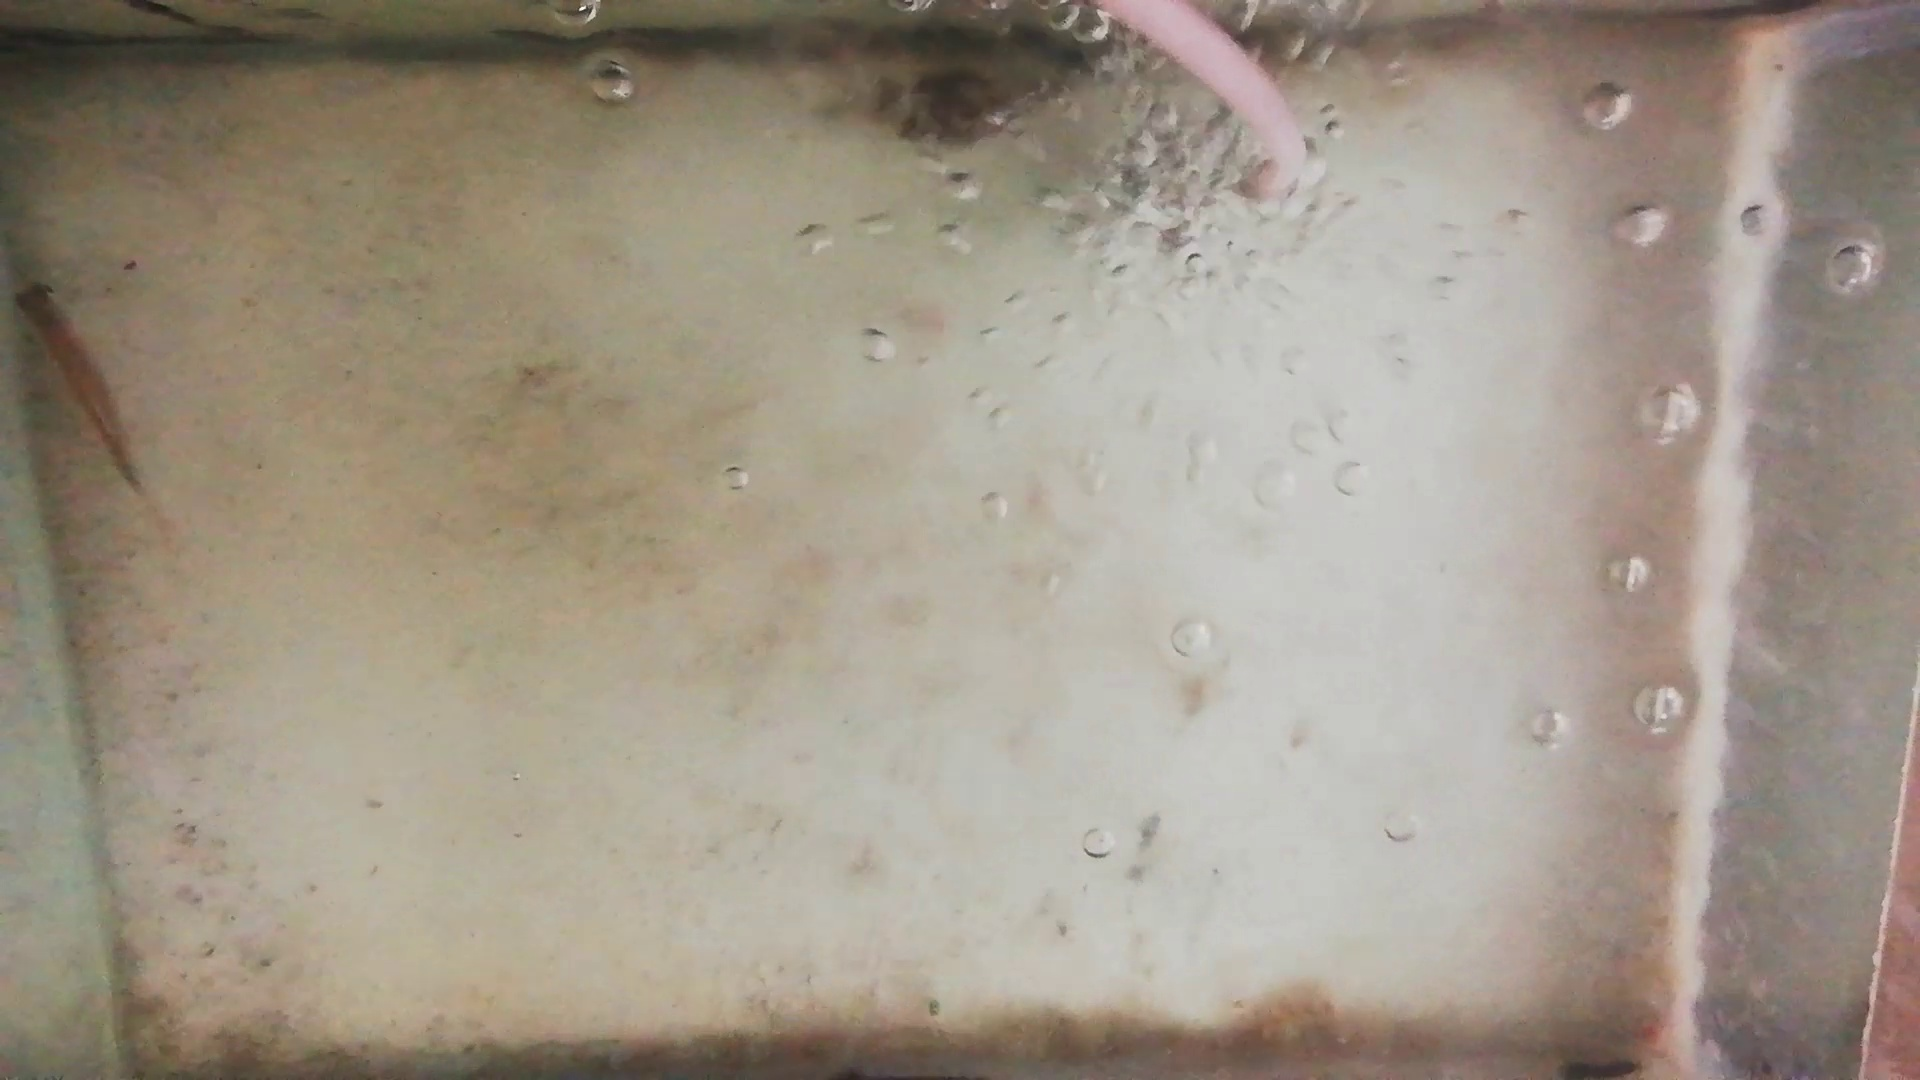fish: (15, 276, 146, 502), (898, 79, 1048, 136)
